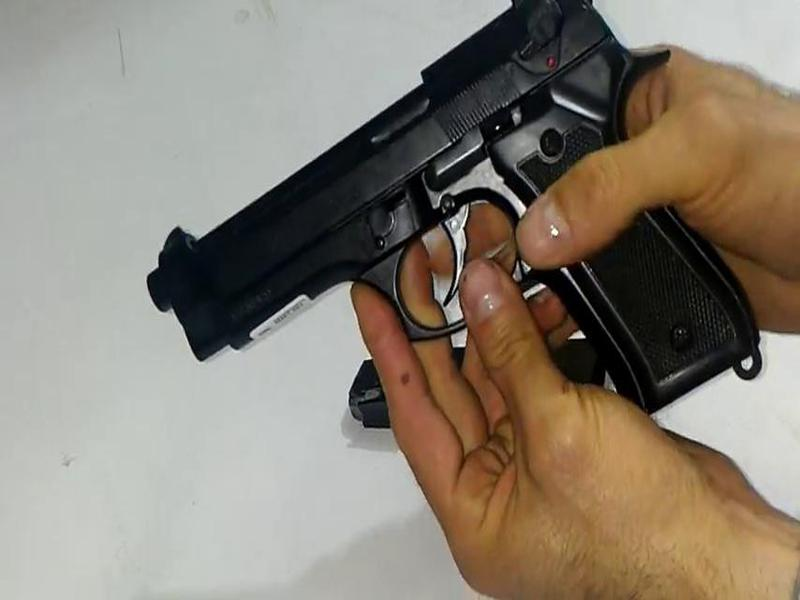Pistola: (137, 15, 768, 397)
